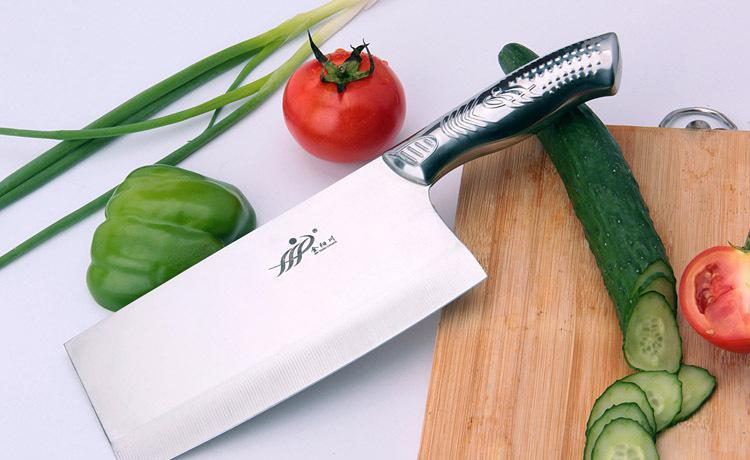knief: (84, 41, 637, 439)
